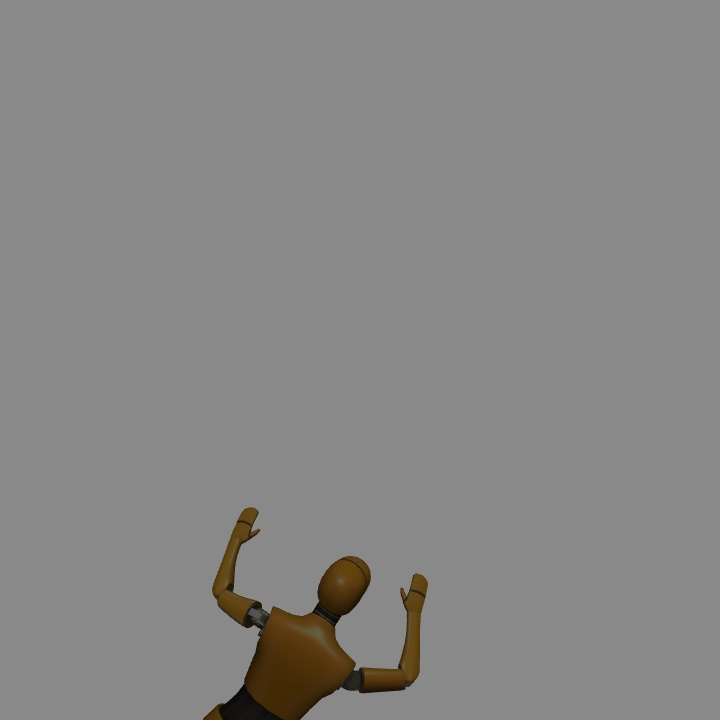victim: (234, 507, 426, 720)
